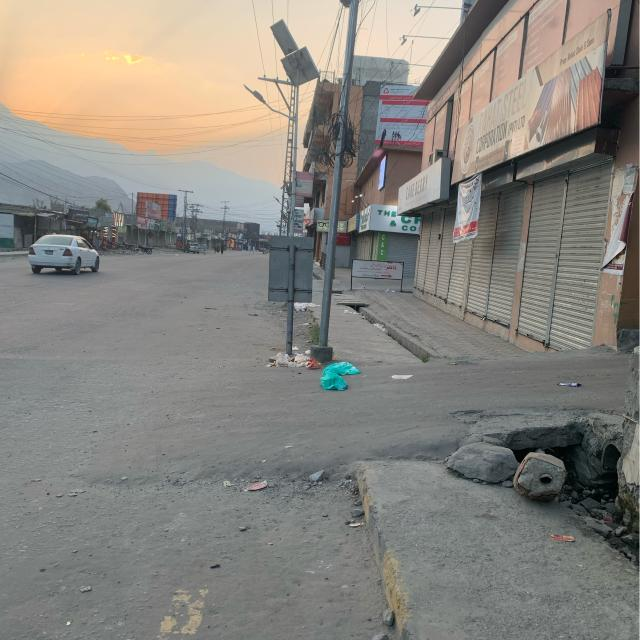Right-Turn: (94, 350, 576, 541)
straight: (15, 242, 251, 417)
